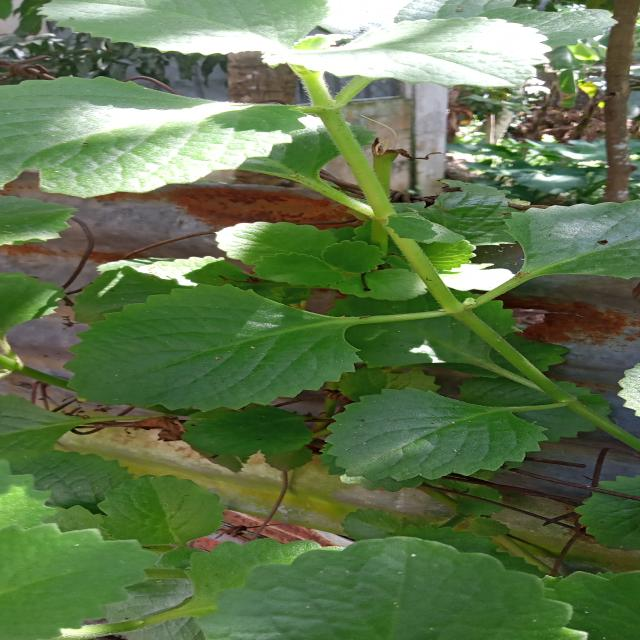Oregano: (0, 401, 640, 640), (25, 0, 636, 92), (35, 280, 411, 414), (0, 58, 342, 198), (152, 532, 588, 640), (302, 372, 575, 497), (158, 217, 496, 303), (462, 186, 640, 303)
